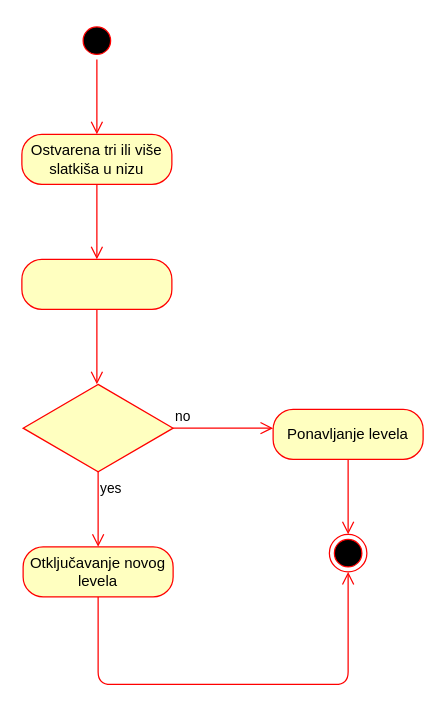
This 445x719 diagram has some shape labels left out. The shapes that lost their labels are listed below. From the top down, each one's centre as x and y in pixels, then its label:
pixel 96 283: Zbrajanje bodova za taj potez
pixel 97 427: Provjera jesmo li prešli određeni cilj
